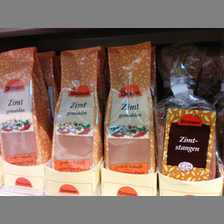spices: (105, 41, 155, 174), (50, 45, 102, 171), (1, 47, 50, 164), (157, 89, 218, 180)
